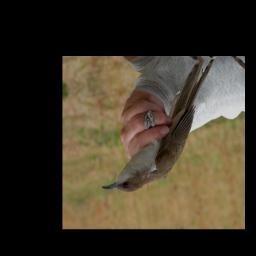Cuckoo: (85, 58, 233, 199)
